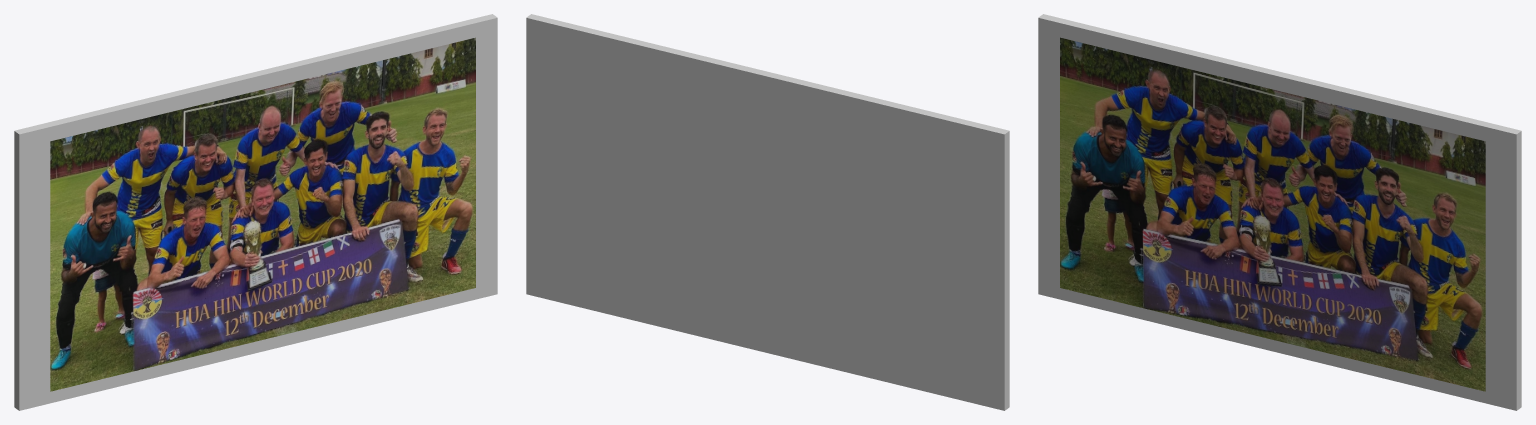
The picture shows the model from 3 angles, left to right: view 1: azimuth 30°, elevation 25°; view 2: azimuth 150°, elevation 25°; view 3: azimuth 330°, elevation 25°; orthographic projection.
Parts seen in each view (by area): view 1: Screenshot 2026-08-05 at 19.54.17, Cube; view 2: Cube; view 3: Screenshot 2026-08-05 at 19.54.17, Cube.
Part boxes in pixels (x1,y1,x2,y2): Screenshot 2026-08-05 at 19.54.17: (50, 37, 475, 391); Cube: (14, 14, 497, 410); Cube: (526, 14, 1009, 410); Screenshot 2026-08-05 at 19.54.17: (1060, 37, 1485, 391); Cube: (1038, 14, 1521, 410).
Bounding box in the file's own units: 2 × 1.1 × 0.0706.
2 materials, 1 textured.
